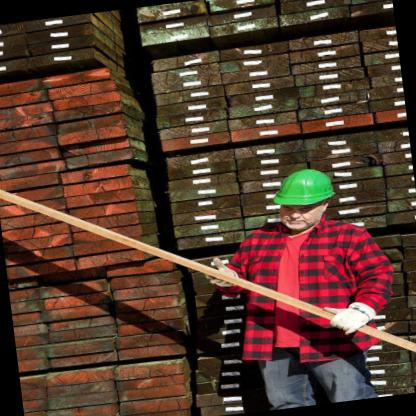helmet: (262, 158, 342, 238)
